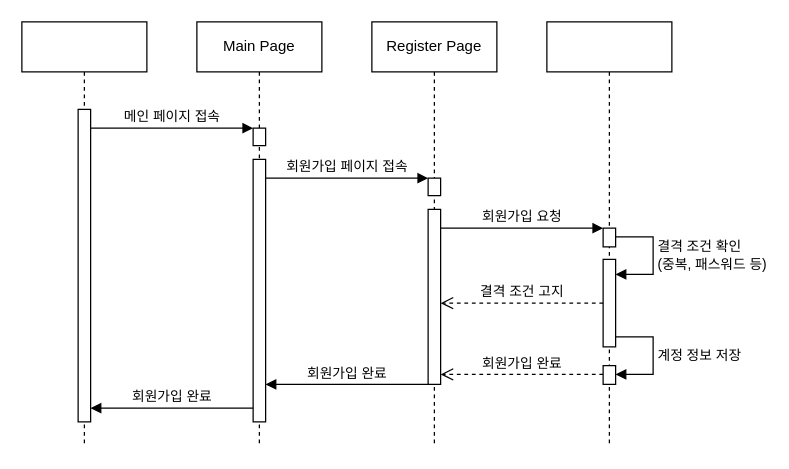
Some shapes in this 789 by 469 pixel diagram are drawn without their labels. The box of each missing label's shape, as (x1, y1, x2, y2) in pixels:
Server: (546, 21, 672, 447)
User: (21, 21, 147, 447)
